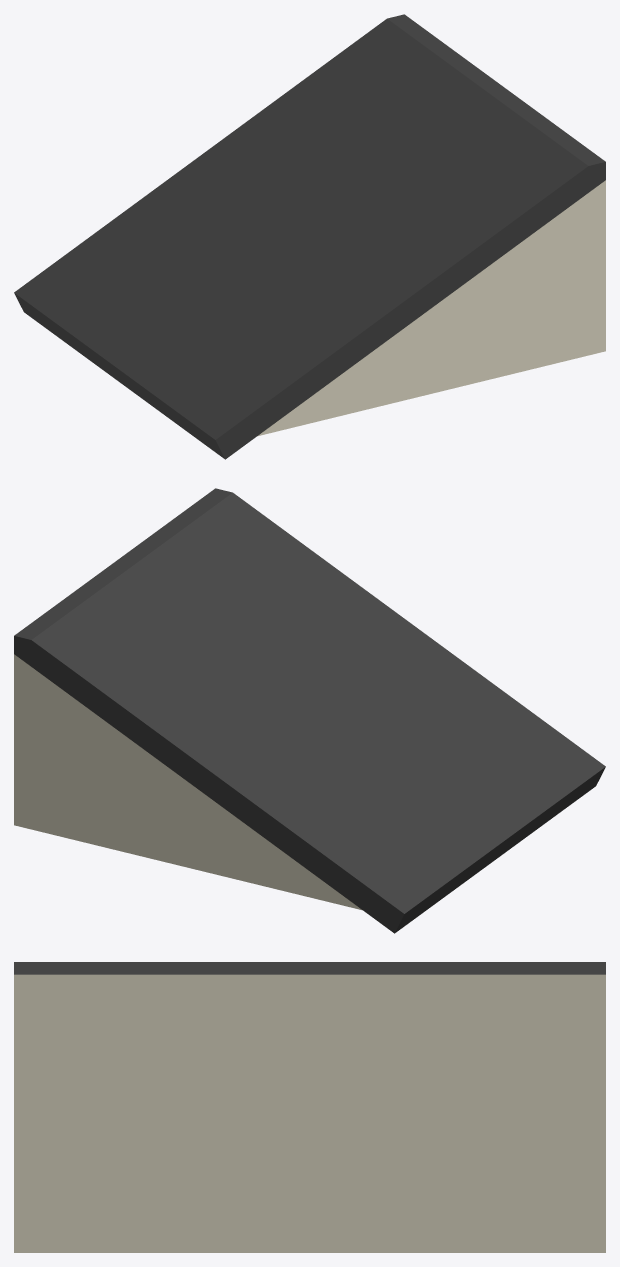
File: modularBuildings_052.fbx
The picture shows the model from 3 angles, top to bottom: view 1: azimuth 30°, elevation 25°; view 2: azimuth 150°, elevation 25°; view 3: azimuth 270°, elevation 25°; orthographic projection. The views are drawn at different scales.
Visible parts, largest first — view 1: Mesh1_Group1 Model; view 2: Mesh1_Group1 Model; view 3: Mesh1_Group1 Model.
Boxes of the visible parts, x1=… form: Mesh1_Group1 Model: x1=14, y1=14, x2=605, y2=459; Mesh1_Group1 Model: x1=14, y1=488, x2=605, y2=933; Mesh1_Group1 Model: x1=14, y1=962, x2=605, y2=1252.
Bounding box in the file's own units: 1.12 × 0.5612 × 1.
